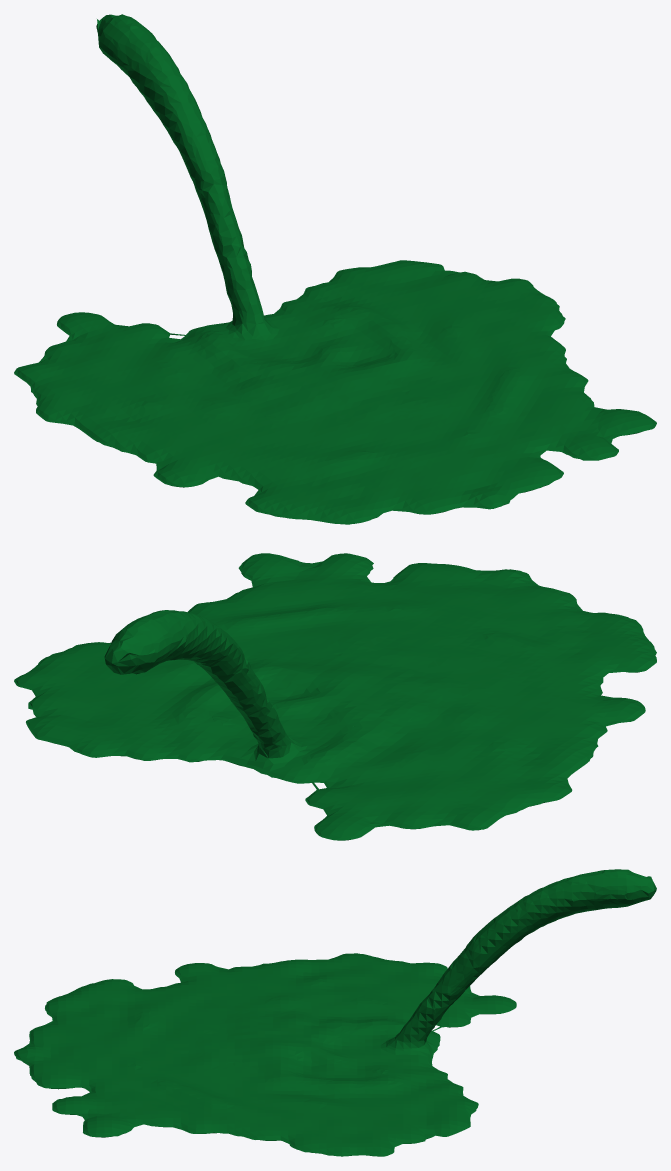
File: fluid_15.fbx
The picture shows the model from 3 angles, top to bottom: view 1: azimuth 30°, elevation 25°; view 2: azimuth 150°, elevation 25°; view 3: azimuth 270°, elevation 25°; orthographic projection. The views are drawn at different scales.
Parts seen in each view (by area): view 1: Cube; view 2: Cube; view 3: Cube.
Part boxes in pixels (x1,y1,x2,y2): Cube: [14, 14, 656, 524]; Cube: [14, 553, 656, 840]; Cube: [14, 869, 656, 1156].
Bounding box in the file's own units: 411 × 176 × 550.
